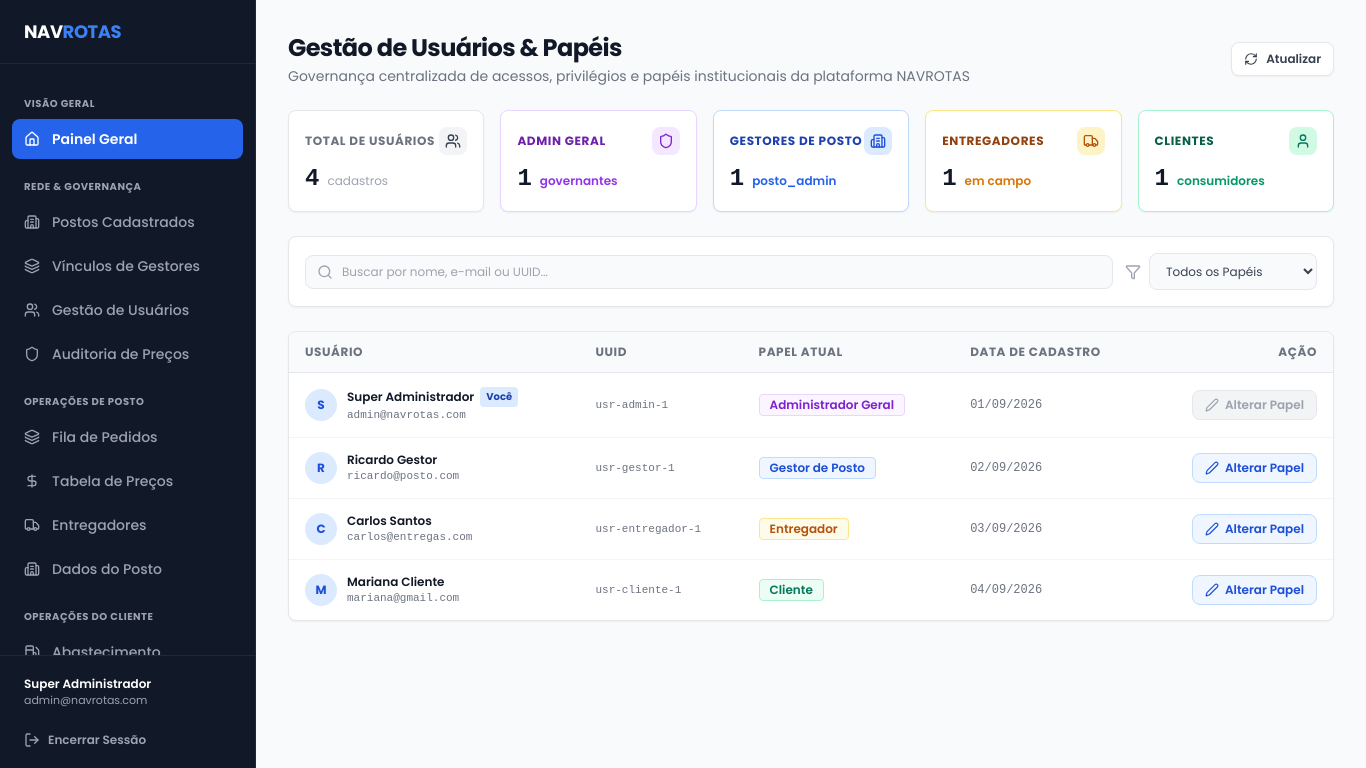
Test: AdminUsuariosPage › filtra usuários por role selecionada
Expected: the text "Ricardo Gestor" is shown, [347, 452, 437, 468]
Select "Gestor de Posto" in the dropdown showing "Todos os Papéis": (1233, 272) [1149, 253, 1317, 290]
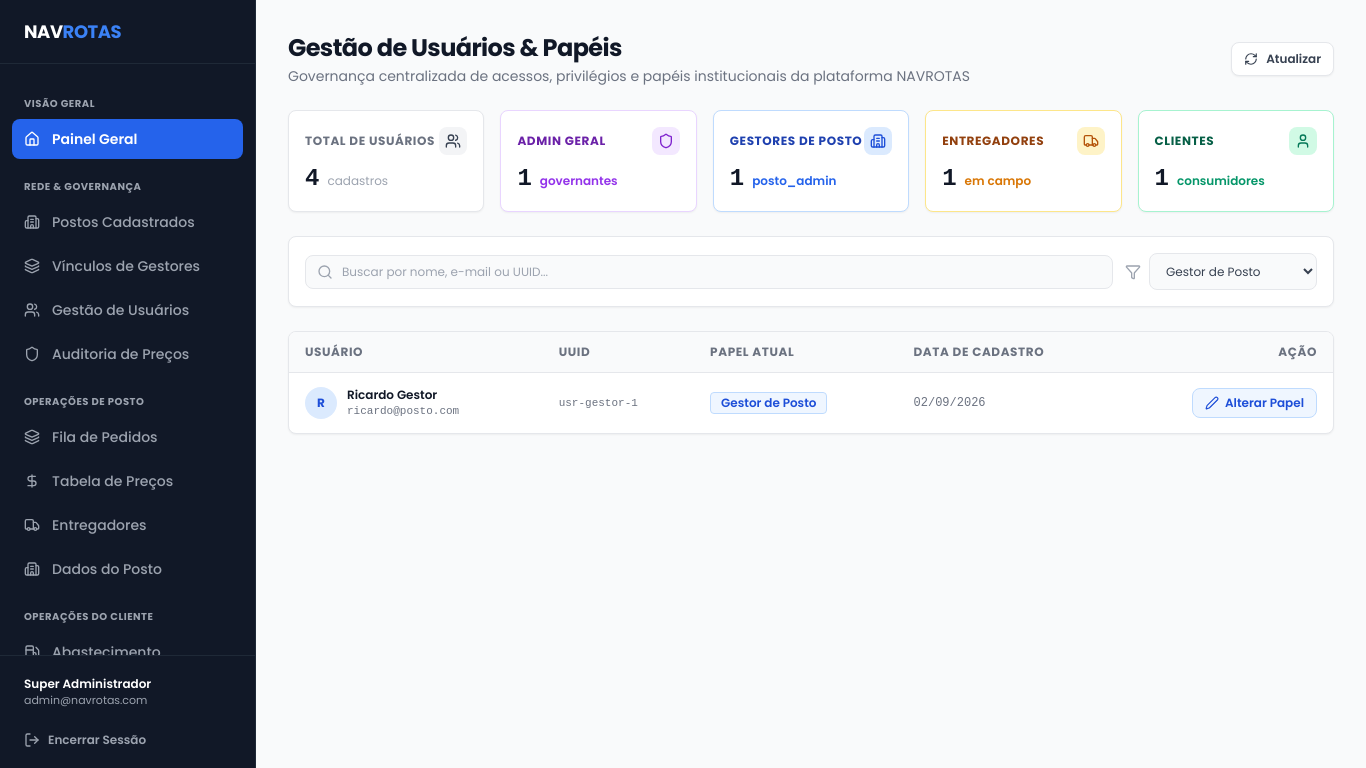
Expected: the text "Ricardo Gestor" is shown, [347, 387, 437, 403]
Now the text "Carlos Santos" is gone
Now the text "Mariana Cliente" is gone
